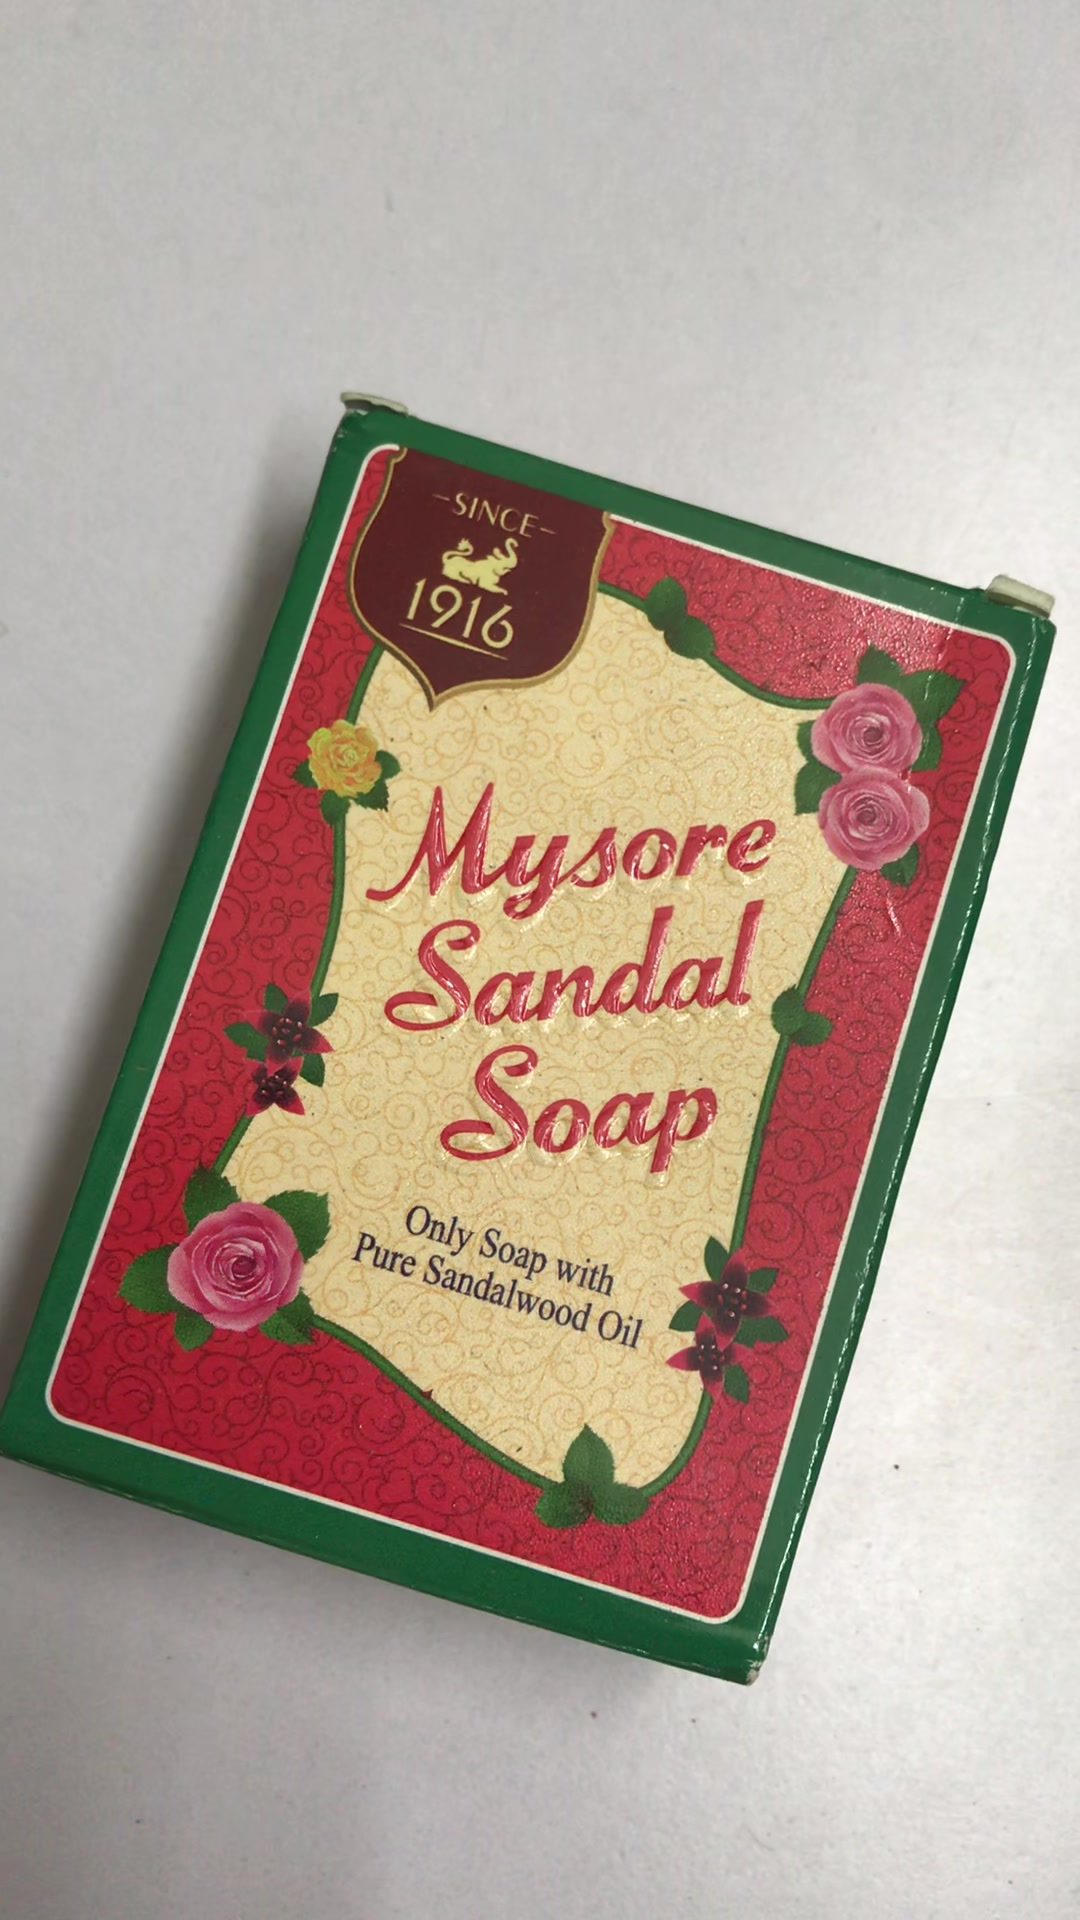mysore sandal soap: (18, 406, 1055, 1691)
